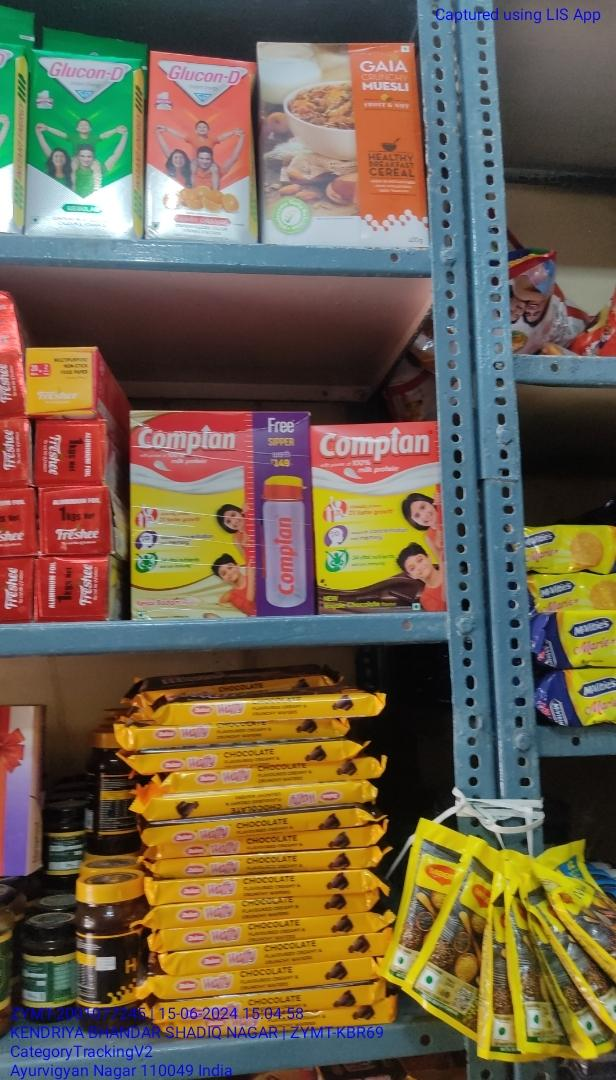COMPLAN_CHOCOLATE_500_GMS_PACK: (319, 424, 444, 612)
COMPLAN_PISTA_BADAM_500_GMS_PACK: (130, 410, 312, 617)
